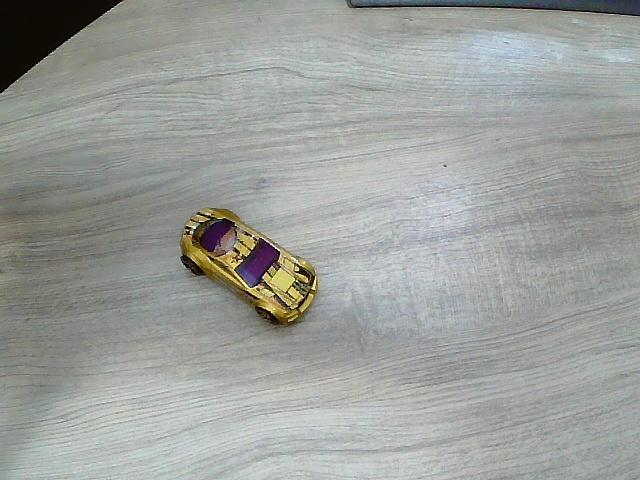Carro: (180, 210, 318, 326)
